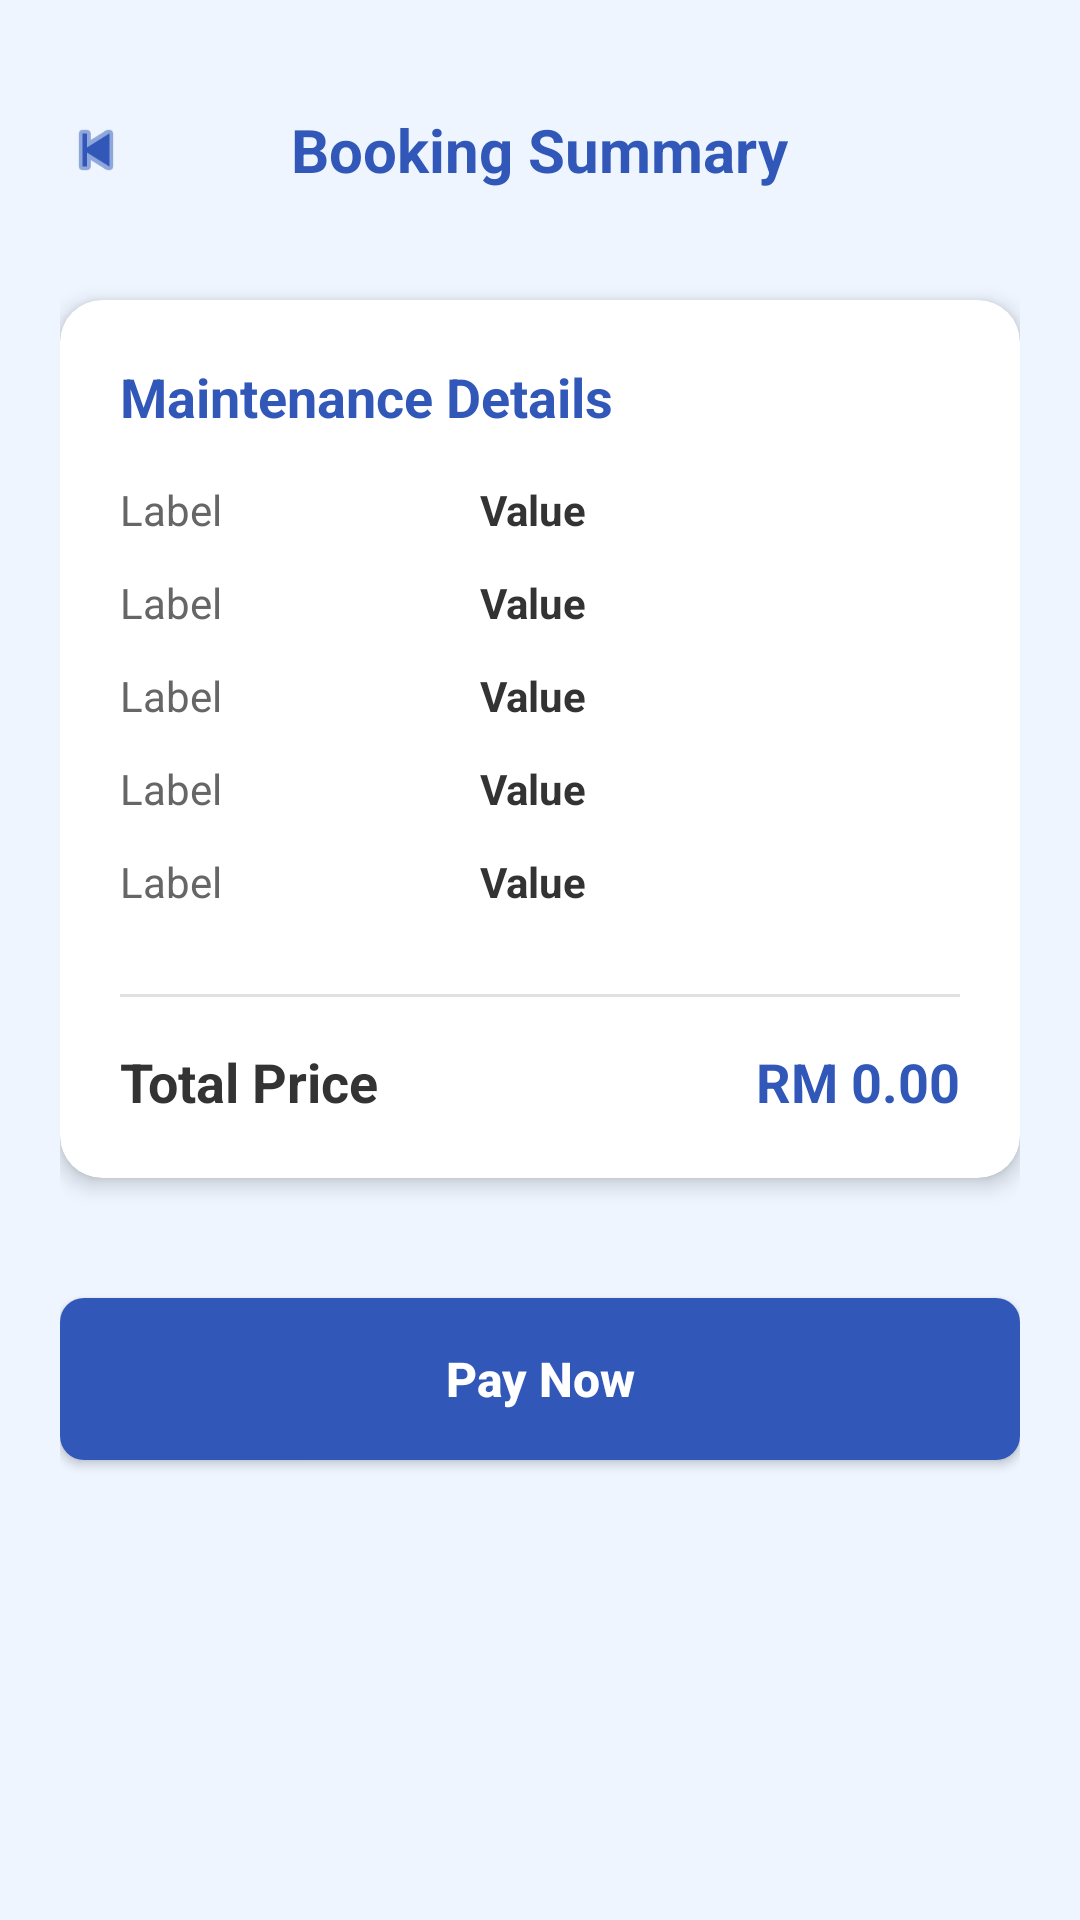

Point at icon controls on the screen. Image size 1080px×1920px, points as (x=x, y=y).
previous: (x=96, y=150)
